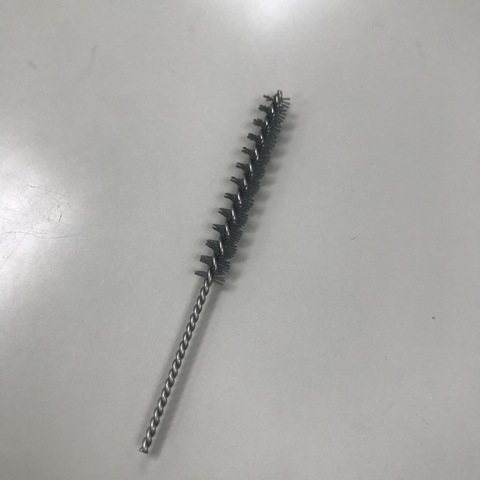Twist Brush-A: (140, 87, 294, 456)
